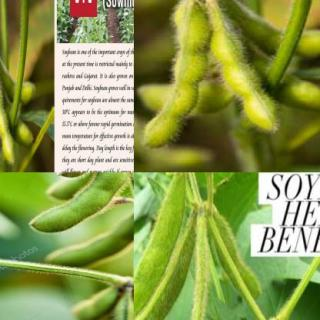soya: (142, 3, 211, 146), (207, 7, 280, 133), (134, 172, 185, 318), (217, 0, 319, 61), (29, 172, 130, 233), (133, 221, 194, 319), (46, 212, 133, 266), (214, 208, 264, 296), (250, 53, 319, 112), (136, 86, 231, 114), (185, 221, 207, 319), (0, 47, 35, 104), (0, 60, 15, 164), (4, 100, 34, 147), (46, 177, 86, 200)
